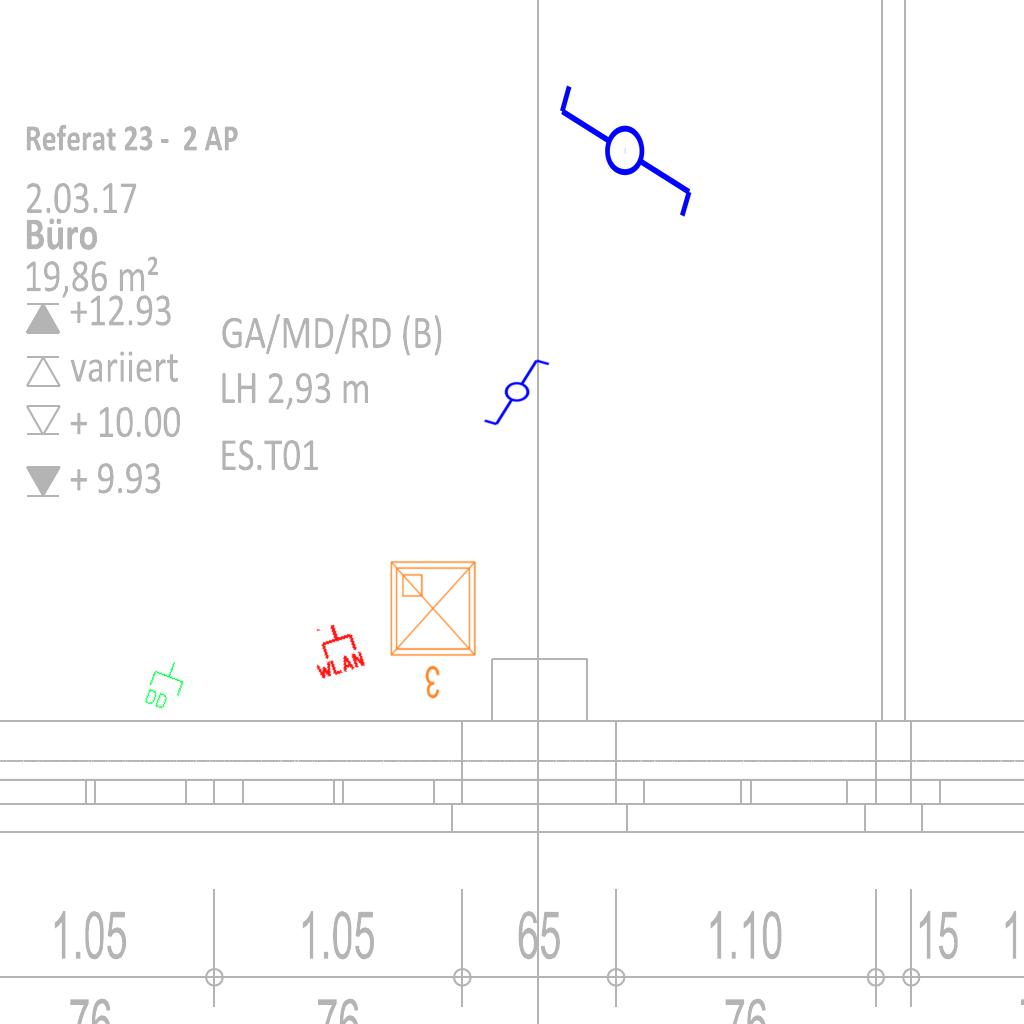Datenanschluss_zweifach: (140, 655, 191, 715)
Einbaudownlights_LED_Konferenzraeume: (383, 554, 487, 704)
WLAN: (302, 616, 368, 682)
Wechselschalter: (555, 64, 699, 221), (482, 357, 560, 429)
